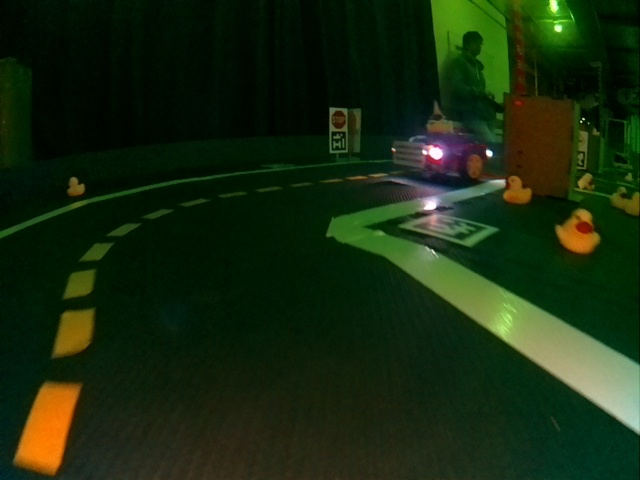Duckie: (557, 211, 597, 252), (503, 177, 530, 202), (624, 194, 639, 214), (70, 177, 84, 194), (611, 188, 625, 204), (579, 174, 593, 189)
Duckiebot: (391, 134, 489, 179)
QR code: (413, 214, 496, 247), (329, 131, 348, 153)
Stop sign: (330, 110, 346, 129)
